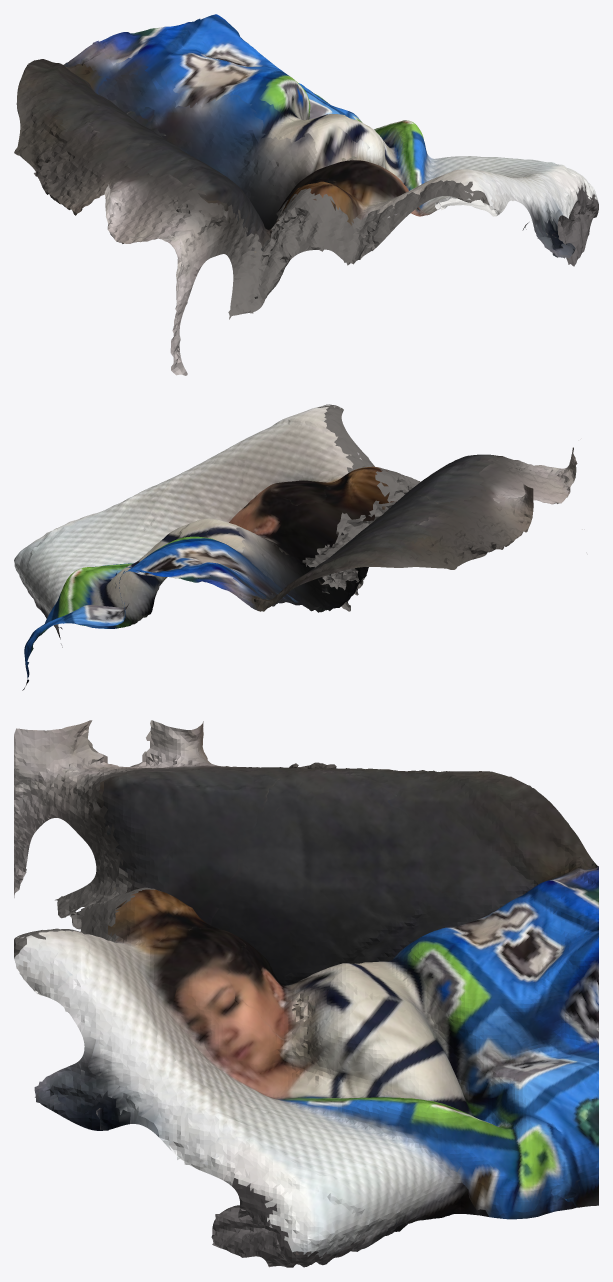
The picture shows the model from 3 angles, top to bottom: view 1: azimuth 30°, elevation 25°; view 2: azimuth 150°, elevation 25°; view 3: azimuth 270°, elevation 25°; orthographic projection. The views are drawn at different scales.
Bounding box in the file's own units: 1.1 × 0.4059 × 0.8714.
1 material, 1 textured.
